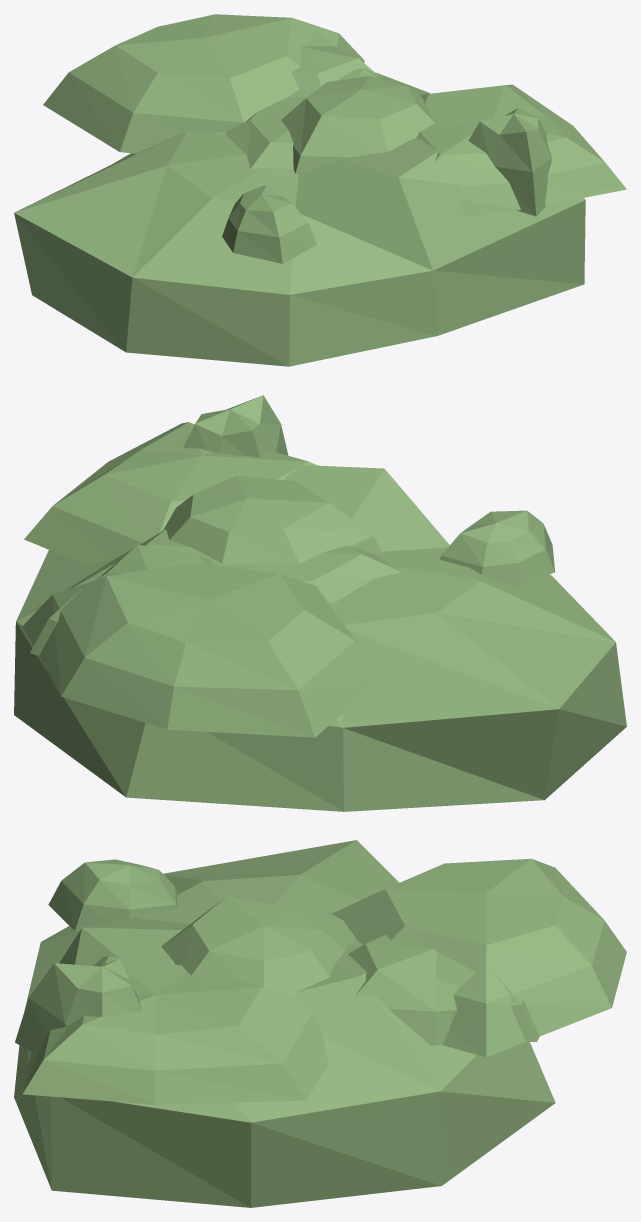
File: moss-cushion.glb
The picture shows the model from 3 angles, top to bottom: view 1: azimuth 30°, elevation 25°; view 2: azimuth 150°, elevation 25°; view 3: azimuth 270°, elevation 25°; orthographic projection. The views are drawn at different scales.
Parts seen in each view (by area): view 1: moss-cushion; view 2: moss-cushion; view 3: moss-cushion.
Boxes of the visible parts, <box> form: moss-cushion: <box>14,14,626,366</box>; moss-cushion: <box>14,395,626,811</box>; moss-cushion: <box>14,840,626,1207</box>.
Bounding box in the file's own units: 0.4856 × 0.1584 × 0.4495.
